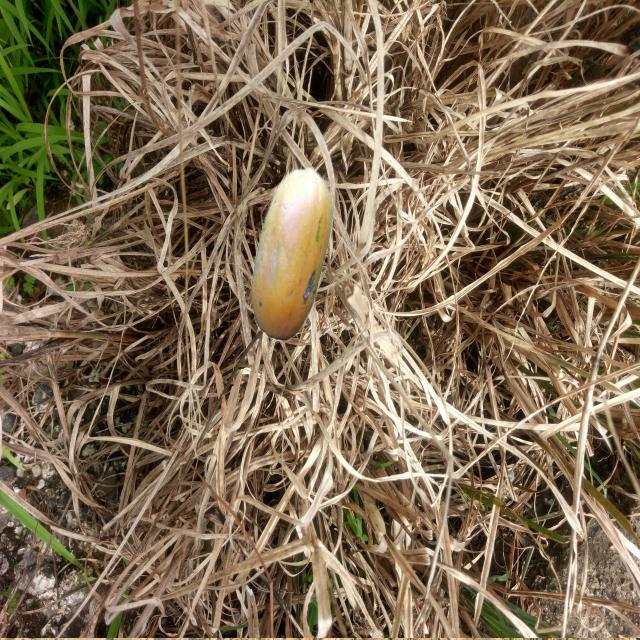Pepaya rippen: (241, 168, 337, 337)
